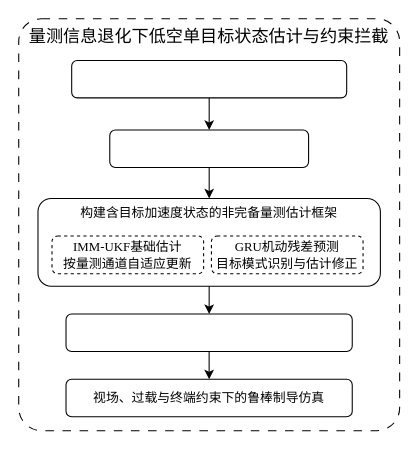
The diagram is 418 pixels wide and 449 high, and some of its shapes have lost their labels. Here are the shapes that lost their labels. From the top down, the centre of each, then its label:
(x=209, y=78): 低空弹目运动、随机间断量测与多径环境建模
(x=209, y=148): 生成布儒斯特有利观测角参考
(x=208, y=332): 状态加速度联合估计及可信度输出
